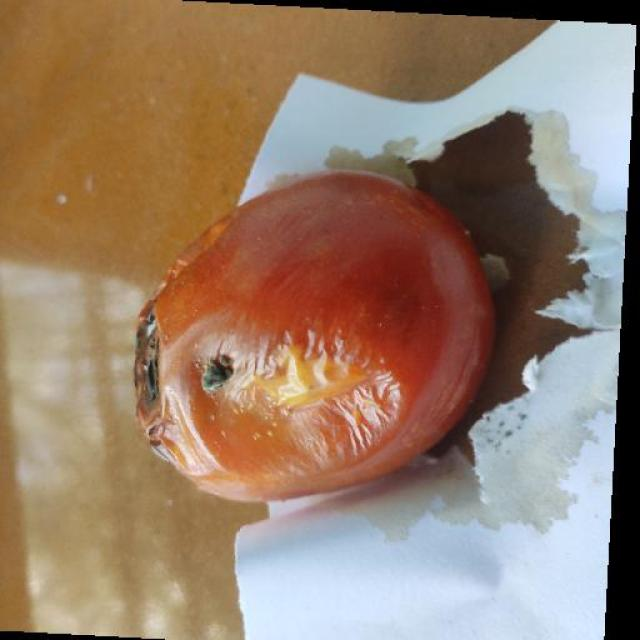Stale_tomato: (93, 248, 556, 499)
